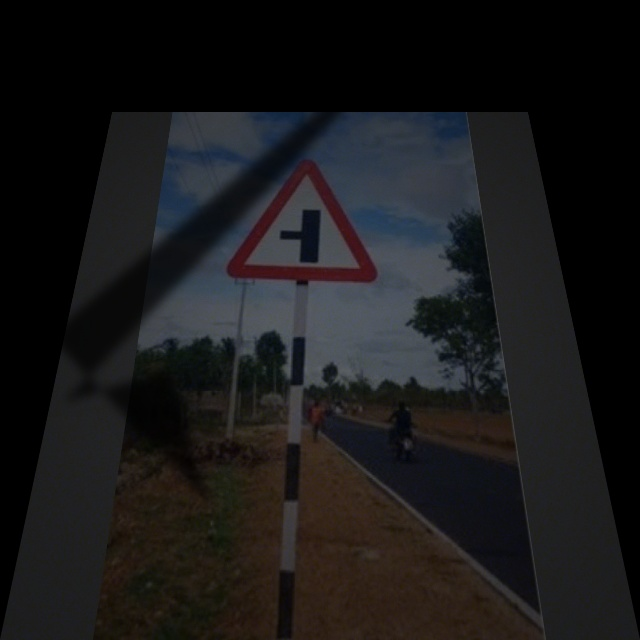Side_Road_Left: (227, 160, 379, 288)
